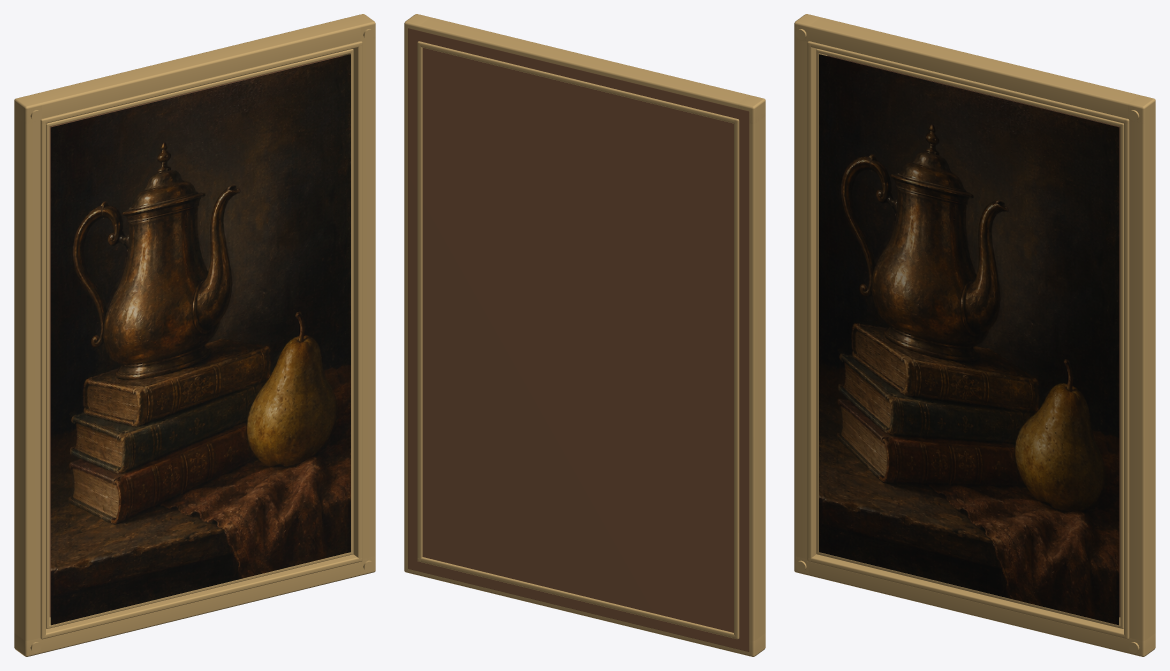
File: apartment-art-portrait-3.glb
3 renders of one model, left to right at view 1: azimuth 30°, elevation 25°; view 2: azimuth 150°, elevation 25°; view 3: azimuth 330°, elevation 25°, orthographic.
Parts seen in each view (by area): view 1: catalog_surface_UVMap, catalog_surface_RealismUV; view 2: catalog_surface_RealismUV; view 3: catalog_surface_UVMap, catalog_surface_RealismUV.
Boxes of the visible parts, x1,y1,x2,y2 form: catalog_surface_UVMap: (50,54,350,625); catalog_surface_RealismUV: (14,14,375,656); catalog_surface_RealismUV: (404,14,765,656); catalog_surface_UVMap: (819,54,1119,625); catalog_surface_RealismUV: (794,14,1155,656).
Bounding box in the file's own units: 0.5 × 0.75 × 0.038.
Materials: 3 (1 with a texture image).
